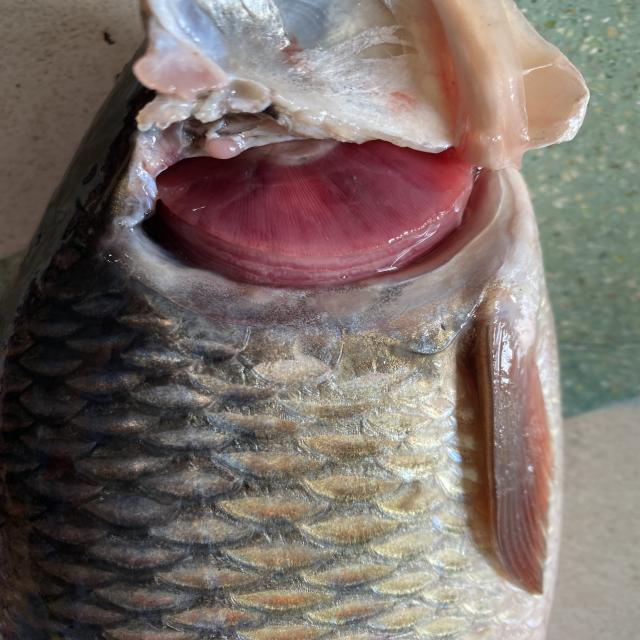Fresh: (106, 127, 508, 276)
